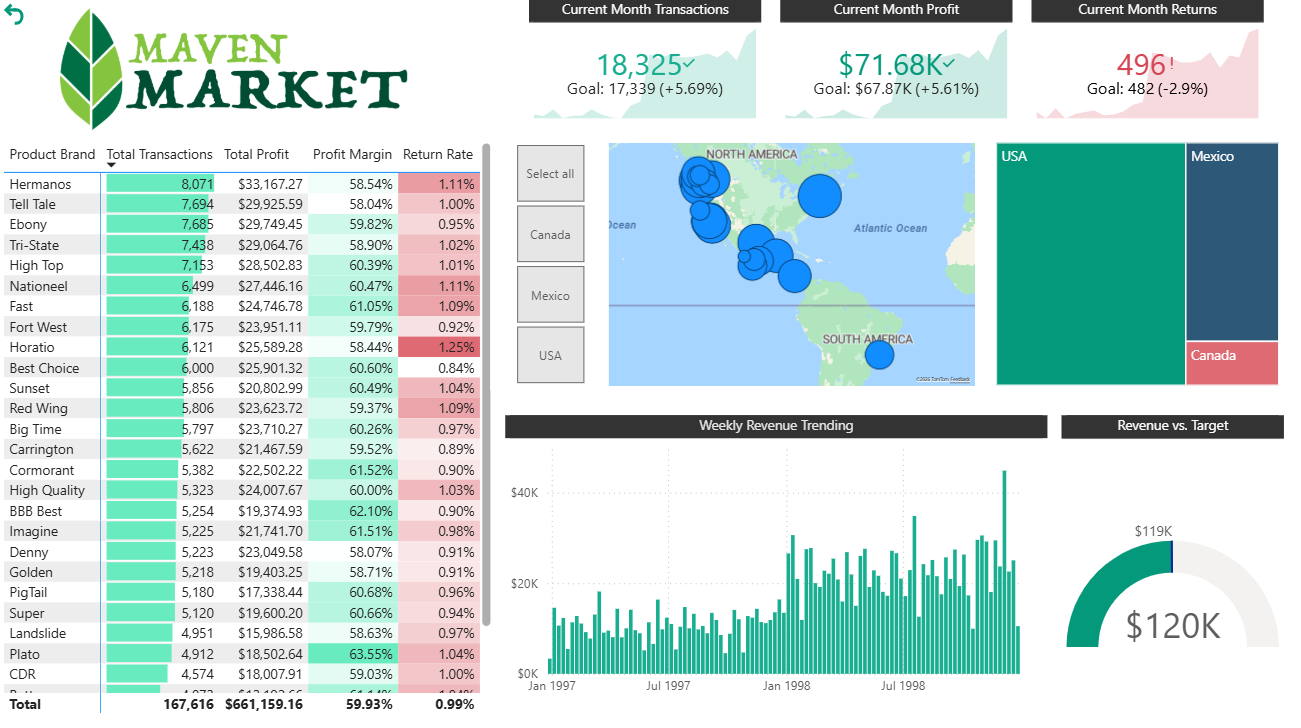

The page's visual inventory and layout, read from the dashboard file:
{"tool":"powerbi","page":{"name":"Topline Performance","canvas":[1280,720],"ordinal":0},"visuals":[{"type":"image","box":[0,0,455.8,135.8],"z":0},{"type":"pivotTable","fields":{"Rows":["Products.product_brand"],"Values":["Transaction_Data.Total Transactions","Transaction_Data.Total Profit","Transaction_Data.Profit Margin","Transaction_Data.Return Rate"]},"box":[0,135.8,486.3,568.4],"z":1000},{"type":"kpi","title":"Current Month Transactions","fields":{"Goal":["Transaction_Data.Last Month Transactions"],"Indicator":["Transaction_Data.Total Transactions"],"TrendLine":["Calendar.Start of Month"]},"box":[517.9,0,227.4,121.1],"z":2000},{"type":"kpi","title":"Current Month Profit","fields":{"Goal":["Transaction_Data.Last Month Profit"],"Indicator":["Transaction_Data.Total Profit"],"TrendLine":["Calendar.Start of Month"]},"box":[763.7,0,227.4,121.1],"z":3000},{"type":"kpi","title":"Current Month Returns","fields":{"Goal":["Return_Data.Last Month Returns"],"Indicator":["Return_Data.Total Returns"],"TrendLine":["Calendar.Start of Month"]},"box":[1009.5,0,227.4,121.1],"z":4000},{"type":"azureMap","fields":{"Category":["Stores.store_city"],"Size":["Transaction_Data.Total Transactions"]},"box":[585.3,135.8,373.7,247.4],"z":5000},{"type":"slicer","fields":{"Values":["Stores.store_country"]},"box":[480,135.8,115.8,247.4],"z":6000},{"type":"treemap","fields":{"Group":["Stores.store_country","Stores.store_state","Stores.store_city"],"Values":["Transaction_Data.Total Transactions"]},"box":[970.5,135.8,286.3,247.4],"z":7000},{"type":"columnChart","title":"Weekly Revenue Trending","fields":{"Category":["Calendar.Start of Week"],"Y":["Transaction_Data.Total Revenue"]},"box":[494.7,407.4,530.5,283.2],"z":8000},{"type":"gauge","title":"Revenue vs. Target","fields":{"TargetValue":["Transaction_Data.Revenue Target"],"Y":["Transaction_Data.Total Revenue"]},"box":[1038.9,407.4,217.9,296.8],"z":8001},{"type":"actionButton","box":[0,0,32.6,29.5],"z":8002}]}

Visuals, with their boxes in screenshot pixels (x1, y1, x2, y2), scaled from the page's 1280x720 canvas onto the 1301x728 screenshot:
image: [0, 0, 463, 137]
pivotTable - Products.product_brand x Transaction_Data.Total Transactions: [0, 137, 494, 712]
"Current Month Transactions" kpi: [526, 0, 758, 122]
"Current Month Profit" kpi: [776, 0, 1007, 122]
"Current Month Returns" kpi: [1026, 0, 1257, 122]
azureMap - Stores.store_city x Transaction_Data.Total Transactions: [595, 137, 975, 387]
slicer - Stores.store_country: [488, 137, 606, 387]
treemap - Stores.store_country x Stores.store_state: [986, 137, 1277, 387]
"Weekly Revenue Trending" columnChart: [503, 412, 1042, 698]
"Revenue vs. Target" gauge: [1056, 412, 1277, 712]
actionButton: [0, 0, 33, 30]
